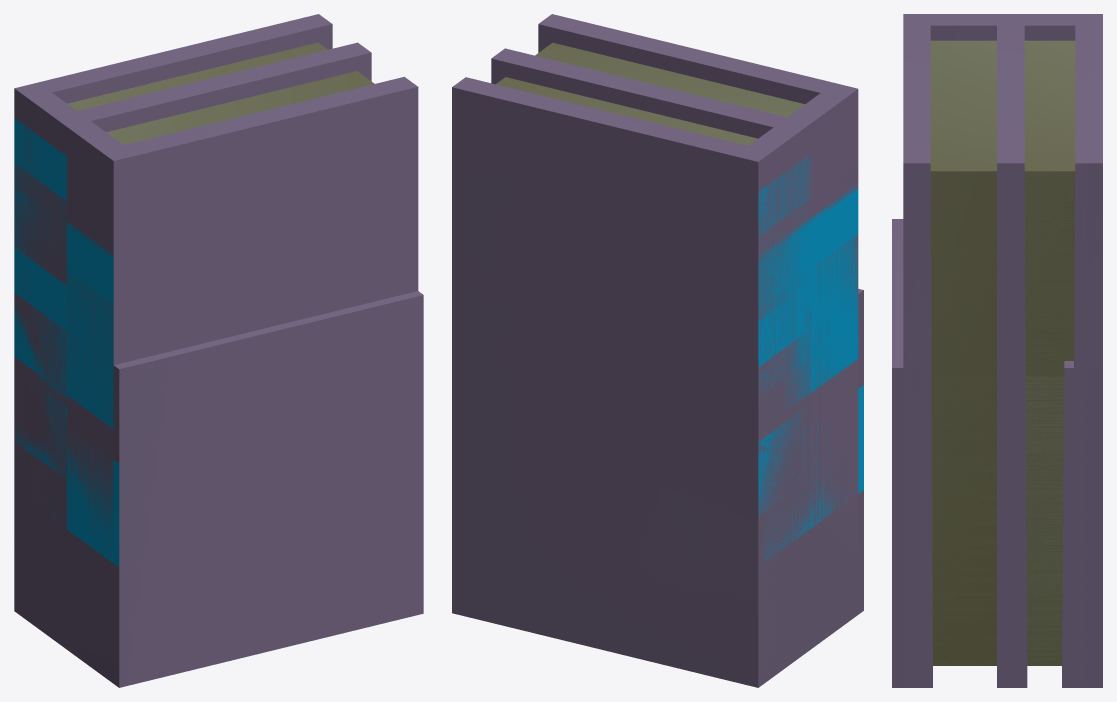
File: books.fbx
3 views of the same model, side by side, from view 1: azimuth 30°, elevation 25°; view 2: azimuth 150°, elevation 25°; view 3: azimuth 270°, elevation 25° (orthographic).
Visible parts, largest first — view 1: square boi_2, ultratall_2, tall book_2, ultratall, square boi, tall book, ultratall_1; view 2: square boi, tall book, ultratall, ultratall_2, tall book_2, square boi_2, ultratall_1; view 3: ultratall_2, ultratall, square boi_2, square boi, tall book, tall book_2, ultratall_1, square boi_1, tall book_1.
Boxes of the visible parts, x1,y1,x2,y2 form: square boi_2: (20, 291, 423, 687); ultratall_2: (14, 14, 418, 662); tall book_2: (14, 162, 418, 658); ultratall: (14, 14, 371, 648); square boi: (14, 293, 66, 649); tall book: (14, 164, 66, 648); ultratall_1: (22, 20, 362, 534); square boi: (452, 292, 811, 687); tall book: (452, 162, 811, 686); ultratall: (452, 48, 811, 687); ultratall_2: (454, 14, 858, 683); tall book_2: (758, 164, 858, 678); square boi_2: (764, 289, 863, 662); ultratall_1: (460, 54, 797, 681); ultratall_2: (903, 14, 1102, 687); ultratall: (997, 14, 1102, 687); square boi_2: (892, 219, 1091, 687); square boi: (997, 368, 1102, 687); tall book: (997, 238, 1102, 687); tall book_2: (903, 238, 1102, 687); ultratall_1: (1013, 14, 1086, 687); square boi_1: (1013, 368, 1085, 687); tall book_1: (1013, 238, 1085, 687).
Bounding box in the file's own units: 25 × 41.02 × 14.92.
Materials: 3 (3 with a texture image).
